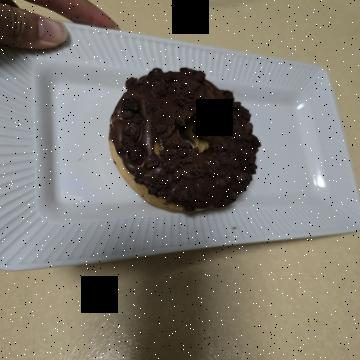doughnut: (53, 90, 230, 264)
